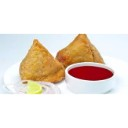samosa: (20, 37, 66, 81), (59, 34, 106, 63)
